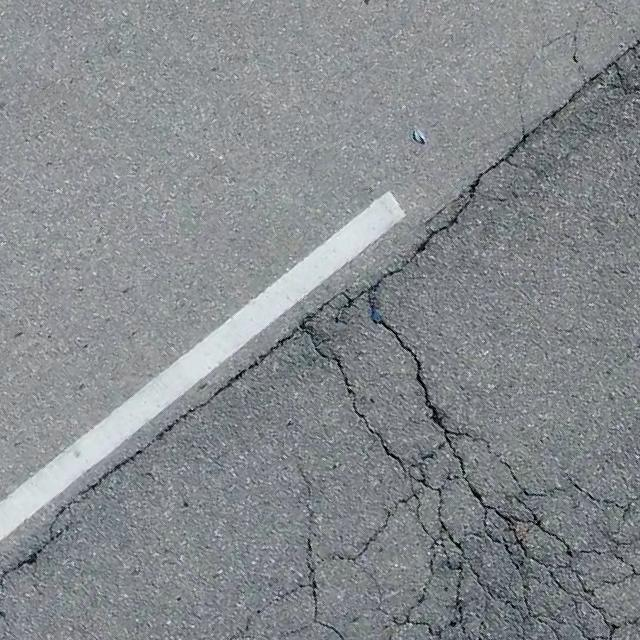GRIETA: (0, 40, 639, 585), (300, 467, 313, 562)
PIEL DE COCODRILO: (205, 297, 639, 639)
